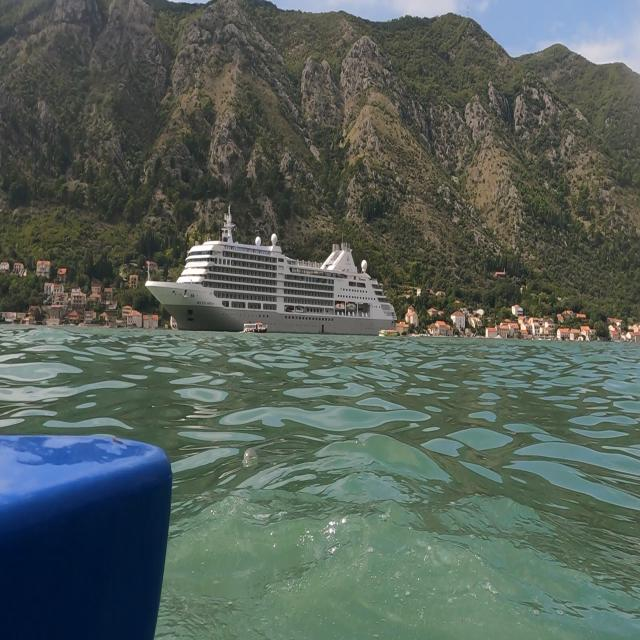boat: (143, 200, 399, 338)
